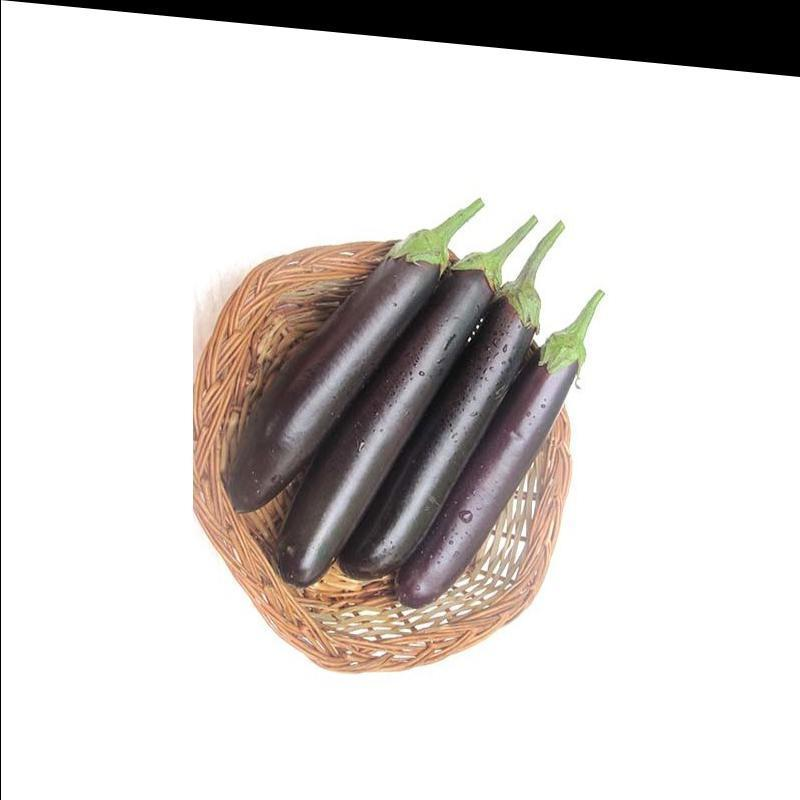eggplant: (293, 198, 566, 556)
